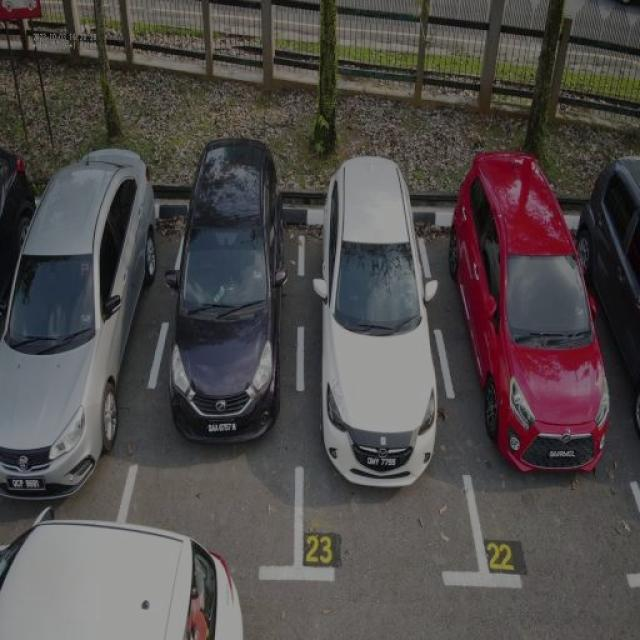Legalparking: (0, 149, 155, 498), (449, 151, 609, 470), (312, 156, 438, 486), (165, 139, 286, 440), (579, 156, 639, 432)
illegalparking: (0, 508, 241, 639)
